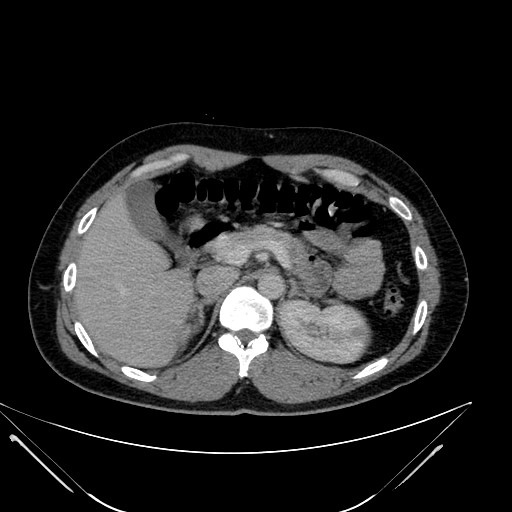vesicula: (122, 177, 175, 247)
